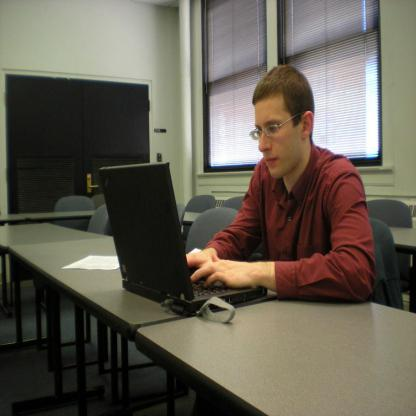board: (92, 159, 262, 316)
